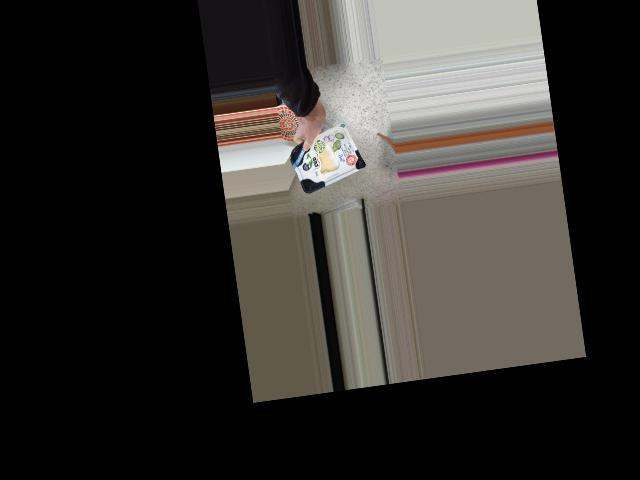cheese: (286, 122, 368, 196)
